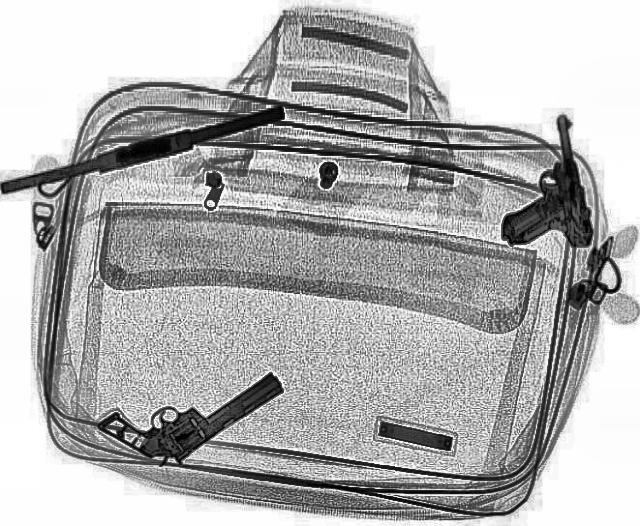Gun: (90, 333, 290, 479), (471, 112, 603, 258)
